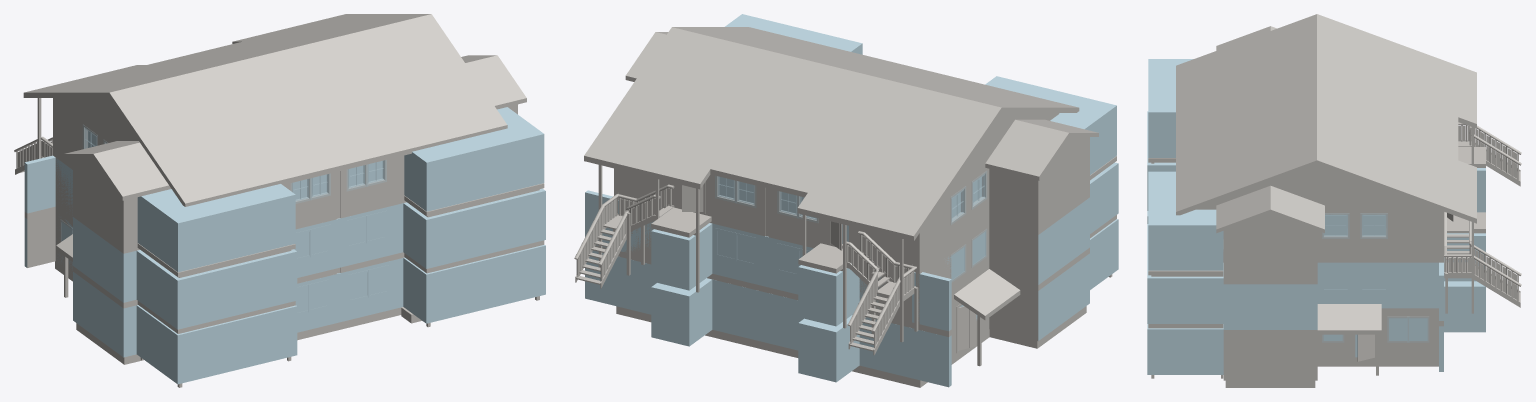
3 renders of one model, left to right at view 1: azimuth 30°, elevation 25°; view 2: azimuth 150°, elevation 25°; view 3: azimuth 270°, elevation 25°, orthographic. The views are drawn at different scales.
Visible parts, largest first — view 1: 0TzYcJDb1Dt8kD666lwnyl, 3bUT2ghKLFxR37$x93VHGY, 2u9gYONfr8zPTBmskJetY8, 2bHsXOtrP50Bfel_b6rZaG, 0T64Cp7un1HPd_lngIzKgv, 316BUAdH9EsxCEjSUOZlK$, 0EzPHAlEn9OR4tQ6XfuTTl, 3XTrQ9G412Uem805lbq8eg, 08idIdjf93AAc2J8d1T9hm, 2Qf0ZL3pz6hO3B_mdsAWCD, 1ykaz7R5575gF52i1EfWmF, 3X7mN8pcL1YgwhYG_kRt$y (+21 smaller); view 2: 0EzPHAlEn9OR4tQ6XfuTTl, 3XTrQ9G412Uem805lbq8eg, 3bUT2ghKLFxR37$x93VHGY, 0TzYcJDb1Dt8kD666lwnyl, 1QMYrSdHfB$Pm5jQBpaBR8, 1QmUIxD31BOhMeCiPN8mDa, 2u9gYONfr8zPTBmskJetY8, 0T64Cp7un1HPd_lngIzKgv, 2bHsXOtrP50Bfel_b6rZaG, 2DDK9Nhx5FJPcjn2QVlapP, 3X7mN8pcL1YgwhYG_kRt$y, 3OBcEBzLb1j9bWiRG2PCTC (+28 smaller); view 3: 0TzYcJDb1Dt8kD666lwnyl, 3XTrQ9G412Uem805lbq8eg, 0EzPHAlEn9OR4tQ6XfuTTl, 2bHsXOtrP50Bfel_b6rZaG, 2u9gYONfr8zPTBmskJetY8, 3bUT2ghKLFxR37$x93VHGY, 316BUAdH9EsxCEjSUOZlK$, 2diovLQw51VA2MKgpPMPC5, 2kLNkKfan7OhZEqWpe$_tm, 323bnnP0v2sQf$beTg3xjB, 1QmUIxD31BOhMeCiPN8mDa, 1iOXBSm958gfuCo_YSxacu (+21 smaller).
Boxes of the visible parts, <box> form: 0TzYcJDb1Dt8kD666lwnyl: <box>24,155,545,329</box>; 3bUT2ghKLFxR37$x93VHGY: <box>24,217,545,384</box>; 2u9gYONfr8zPTBmskJetY8: <box>109,53,346,206</box>; 2bHsXOtrP50Bfel_b6rZaG: <box>271,14,507,169</box>; 0T64Cp7un1HPd_lngIzKgv: <box>137,184,295,272</box>; 316BUAdH9EsxCEjSUOZlK$: <box>404,107,544,211</box>; 0EzPHAlEn9OR4tQ6XfuTTl: <box>23,53,269,97</box>; 3XTrQ9G412Uem805lbq8eg: <box>195,14,430,53</box>; 08idIdjf93AAc2J8d1T9hm: <box>73,158,123,245</box>; 2Qf0ZL3pz6hO3B_mdsAWCD: <box>93,142,171,200</box>; 1ykaz7R5575gF52i1EfWmF: <box>340,155,404,210</box>; 3X7mN8pcL1YgwhYG_kRt$y: <box>55,98,119,161</box>; 0EzPHAlEn9OR4tQ6XfuTTl: <box>759,67,1001,241</box>; 3XTrQ9G412Uem805lbq8eg: <box>584,27,836,189</box>; 3bUT2ghKLFxR37$x93VHGY: <box>585,219,1118,387</box>; 0TzYcJDb1Dt8kD666lwnyl: <box>585,162,1118,331</box>; 1QMYrSdHfB$Pm5jQBpaBR8: <box>846,231,916,355</box>; 1QmUIxD31BOhMeCiPN8mDa: <box>574,184,674,288</box>; 2u9gYONfr8zPTBmskJetY8: <box>837,67,1079,112</box>; 0T64Cp7un1HPd_lngIzKgv: <box>985,76,1116,174</box>; 2bHsXOtrP50Bfel_b6rZaG: <box>672,27,912,67</box>; 2DDK9Nhx5FJPcjn2QVlapP: <box>985,119,1069,180</box>; 3X7mN8pcL1YgwhYG_kRt$y: <box>922,159,989,263</box>; 3OBcEBzLb1j9bWiRG2PCTC: <box>989,215,1038,284</box>; 0TzYcJDb1Dt8kD666lwnyl: <box>1147,111,1485,329</box>; 3XTrQ9G412Uem805lbq8eg: <box>1317,87,1476,223</box>; 0EzPHAlEn9OR4tQ6XfuTTl: <box>1317,14,1476,138</box>; 2bHsXOtrP50Bfel_b6rZaG: <box>1176,87,1316,215</box>; 2u9gYONfr8zPTBmskJetY8: <box>1176,14,1316,138</box>; 3bUT2ghKLFxR37$x93VHGY: <box>1147,211,1485,374</box>; 316BUAdH9EsxCEjSUOZlK$: <box>1148,171,1223,270</box>; 2diovLQw51VA2MKgpPMPC5: <box>1317,203,1438,255</box>; 2kLNkKfan7OhZEqWpe$_tm: <box>1223,225,1317,276</box>; 323bnnP0v2sQf$beTg3xjB: <box>1223,330,1317,380</box>; 1QmUIxD31BOhMeCiPN8mDa: <box>1444,212,1521,307</box>; 1iOXBSm958gfuCo_YSxacu: <box>1317,308,1438,358</box>.
Bounding box in the file's own units: 20.74 × 11.18 × 17.88.
